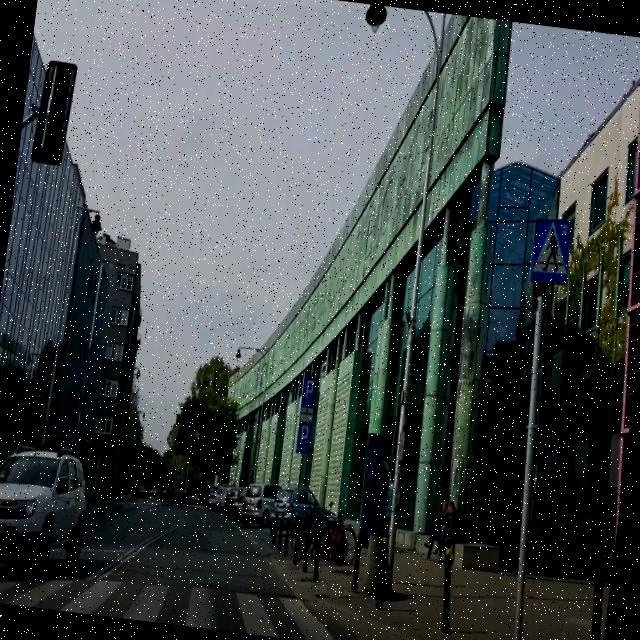Przejscie dla pieszych: (528, 218, 574, 282)
